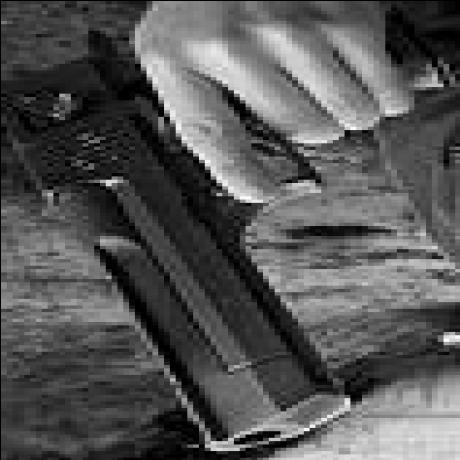weapon: (0, 44, 350, 457)
